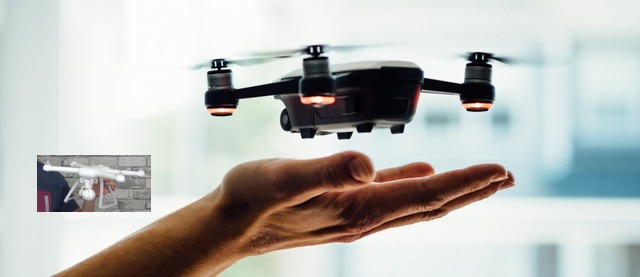drone: (189, 42, 509, 142), (37, 155, 151, 212)
